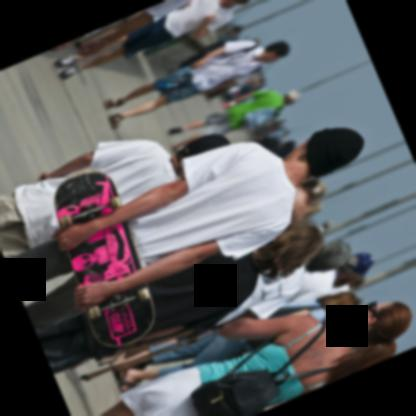backpack: (190, 326, 334, 416), (180, 37, 238, 68), (244, 106, 281, 126)
